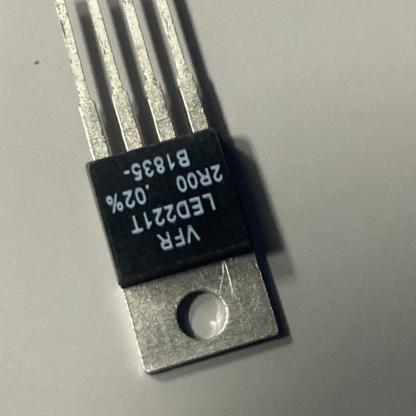SP0000012: (21, 0, 363, 408)
